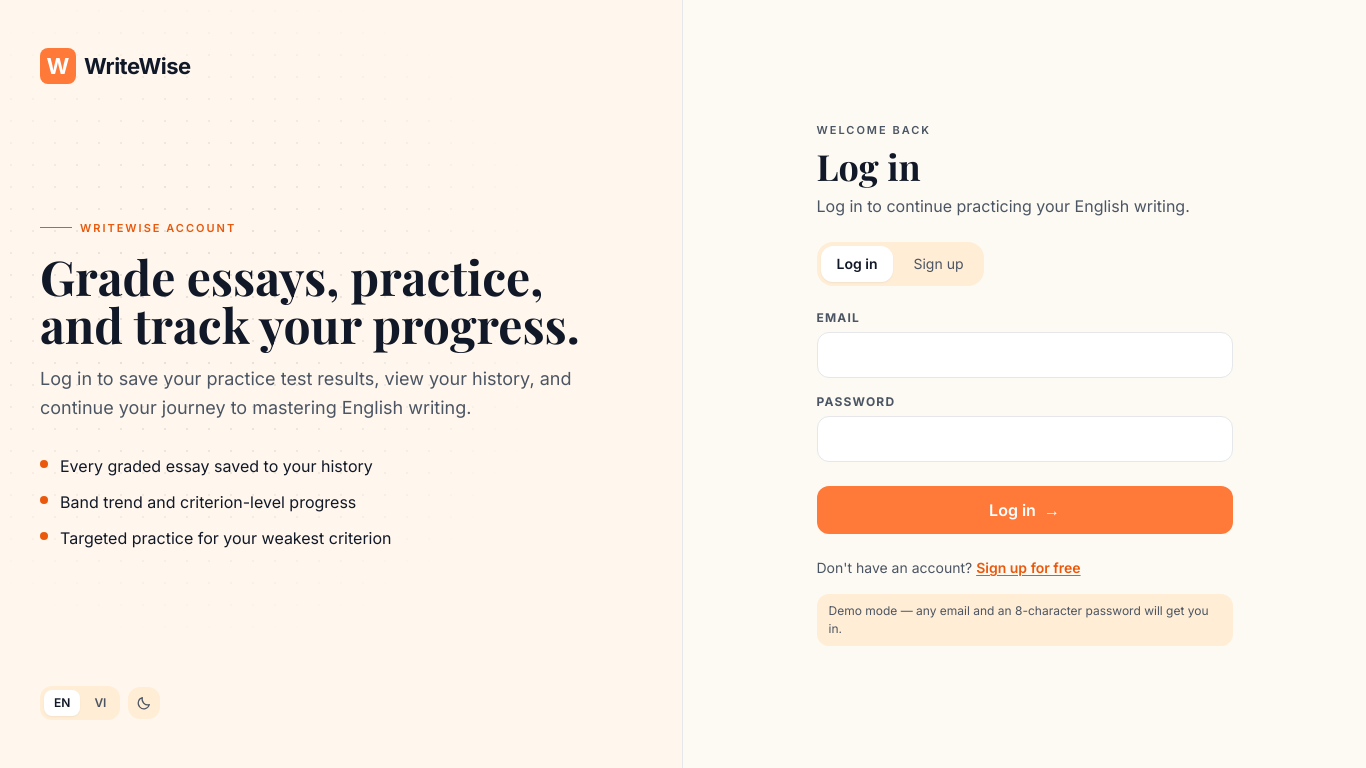
Test: AuthScreen › names the field that is wrong instead of failing silently
The width and height of the screenshot is (1366, 768).
Type "not-an-email" into the field labelled "Email".
click(1024, 355); type("not-an-email")  # box [816,332,1232,378]
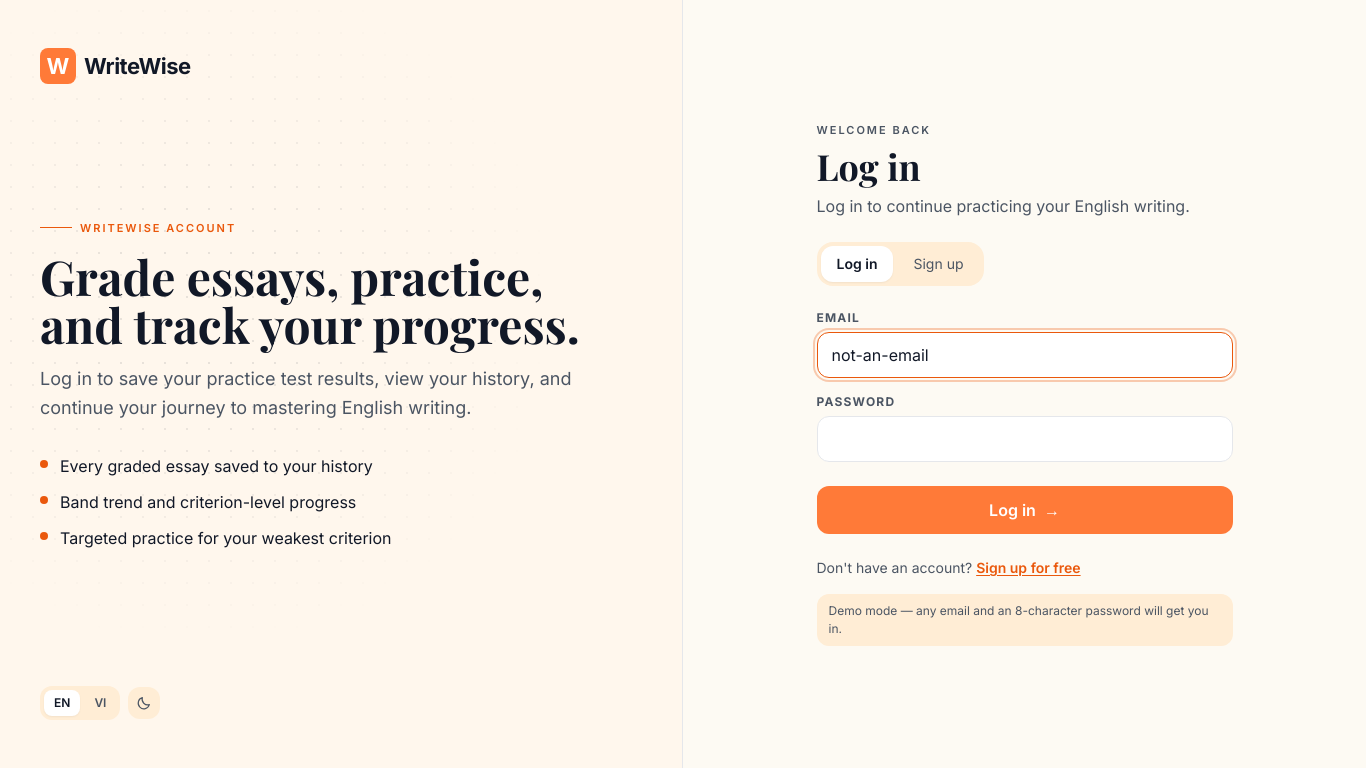
Type "a-long-password" into the password field labelled "Password".
click(1024, 439); type("a-long-password")  # box [816,416,1232,462]
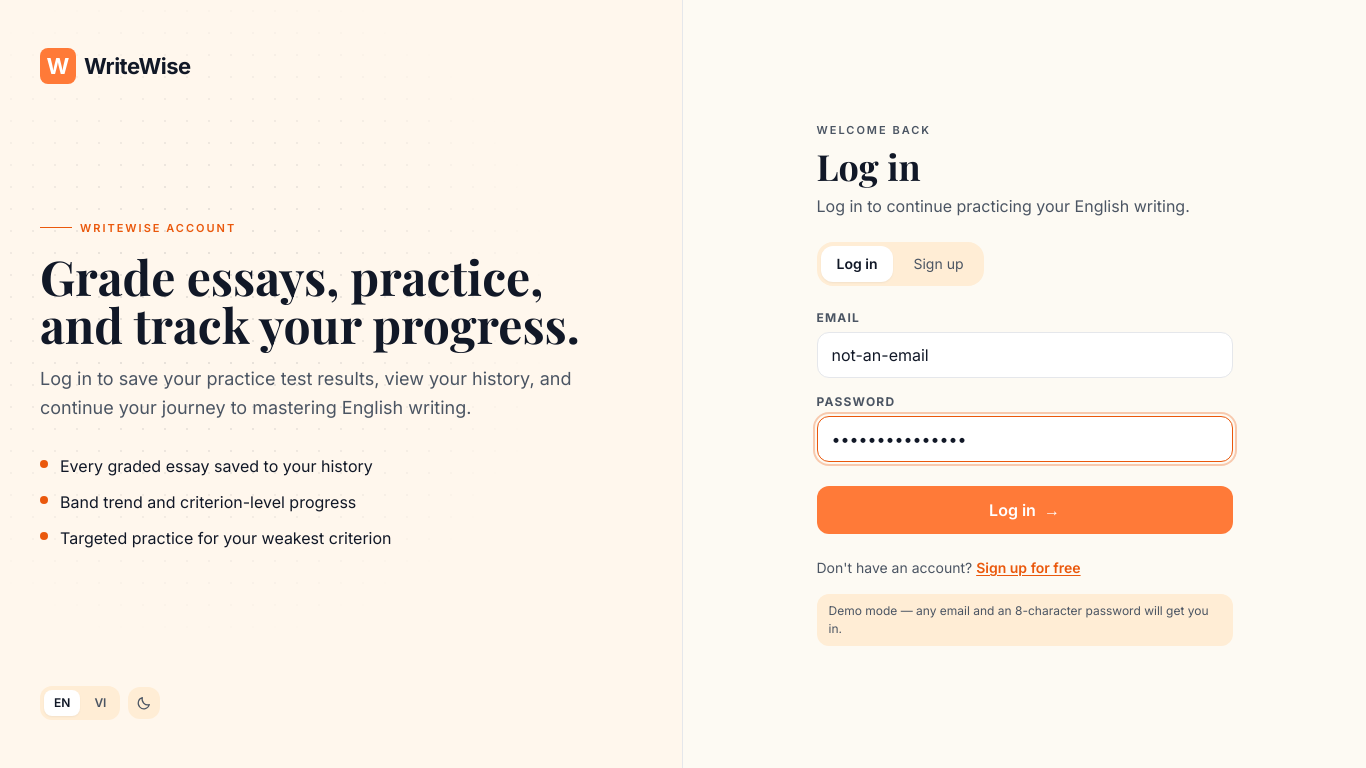
Click the button "Log in →".
click(1024, 510)  # box [816,486,1232,534]
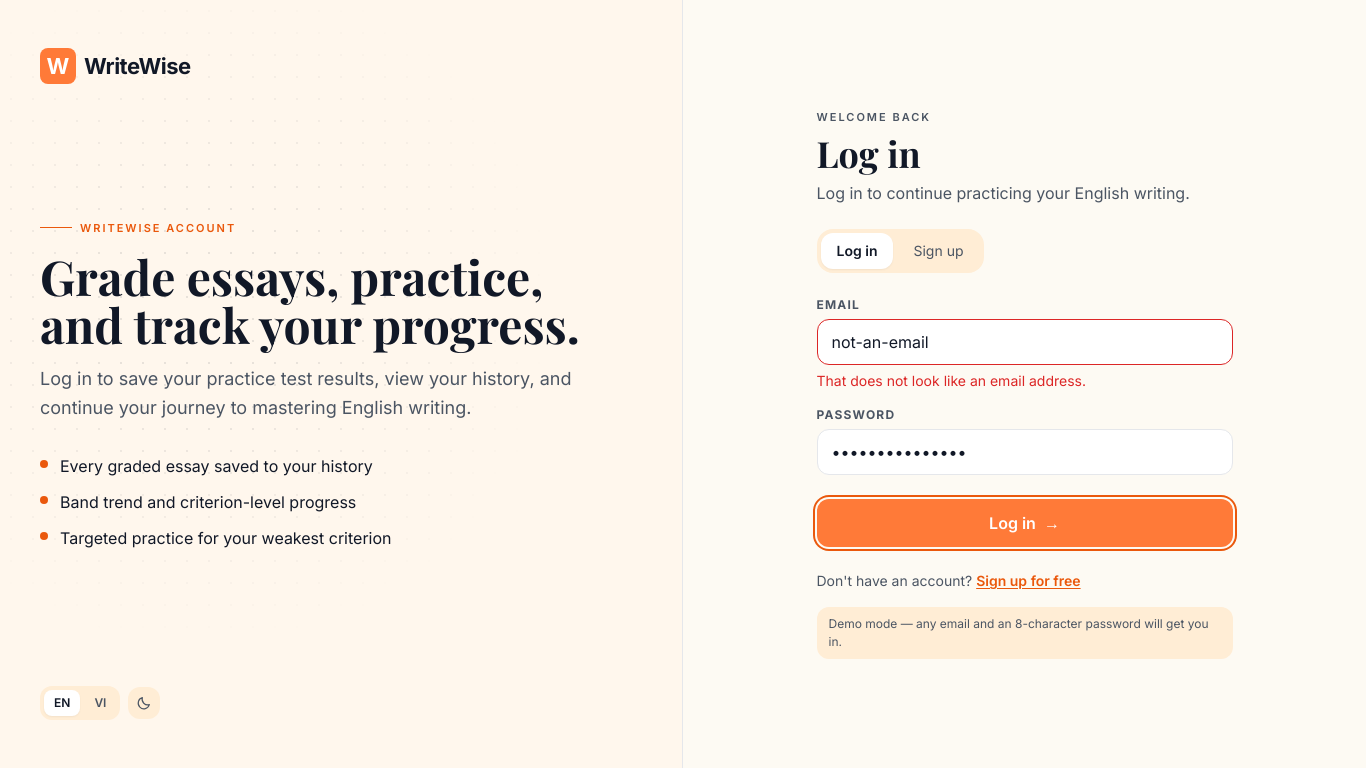
Expected: the text "That does not look like an email address." is shown, [816,372,1086,389]
